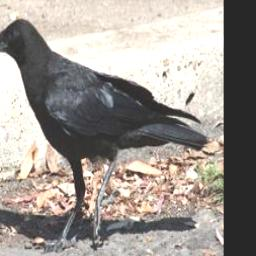Crow: (0, 13, 207, 249)
